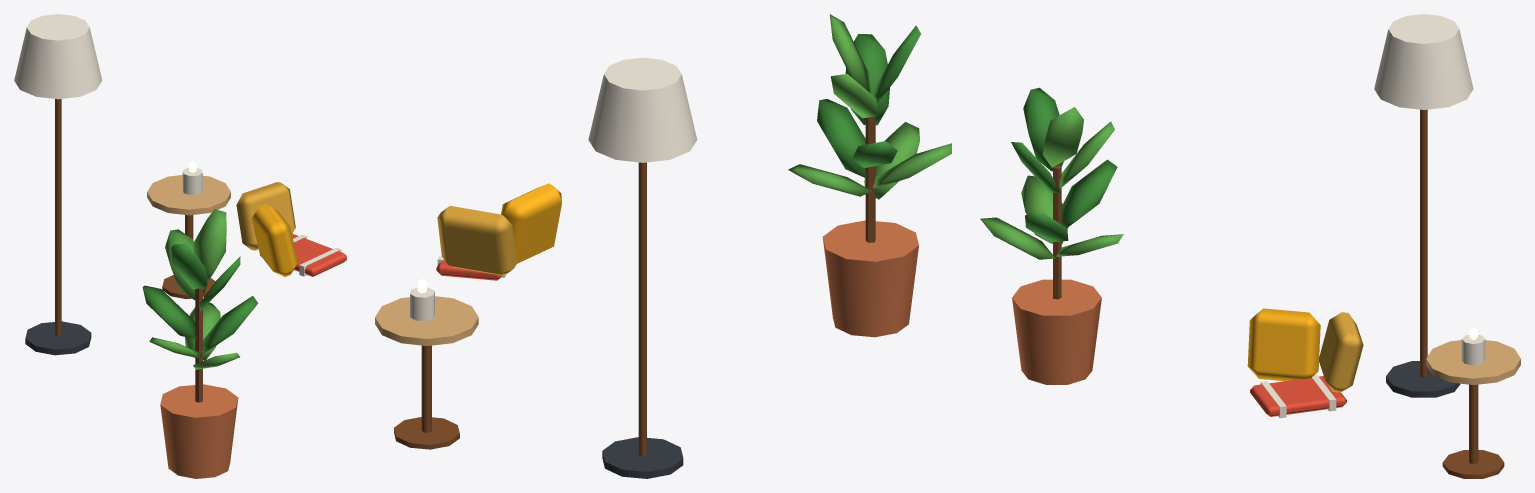
The model's file is station_special_ausstattung_2_3.glb.
3 renders of one model, left to right at view 1: azimuth 30°, elevation 25°; view 2: azimuth 150°, elevation 25°; view 3: azimuth 270°, elevation 25°, orthographic. The views are drawn at different scales.
Parts seen in each view (by area): view 1: station_special_ausstattung_2_3; view 2: station_special_ausstattung_2_3; view 3: station_special_ausstattung_2_3.
Boxes of the visible parts, bbox=[...] form: station_special_ausstattung_2_3: bbox=[14, 14, 346, 478]; station_special_ausstattung_2_3: bbox=[375, 14, 951, 478]; station_special_ausstattung_2_3: bbox=[980, 14, 1520, 478].
Bounding box in the file's own units: 1.65 × 1.65 × 2.28.
